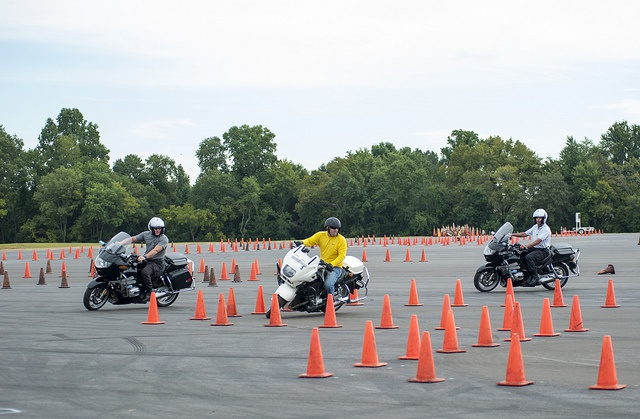non-vehicle: (86, 229, 197, 323), (261, 245, 372, 317), (474, 222, 580, 291)
